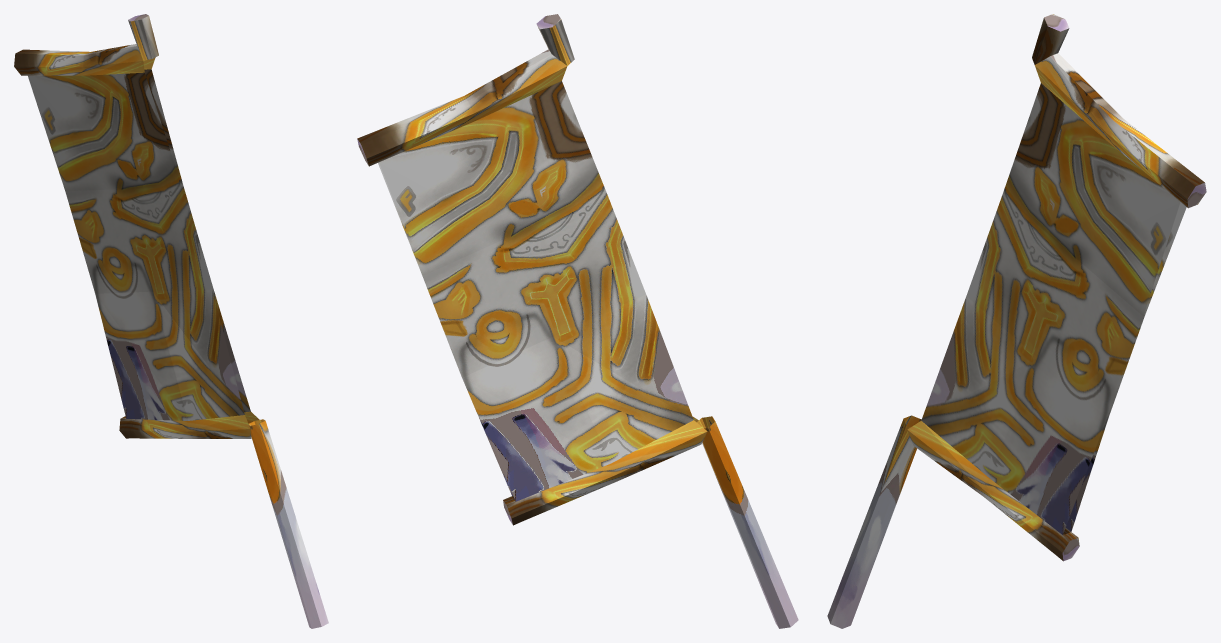
Rendered from Bison_championFlag.obj.
3 renders of one model, left to right at view 1: azimuth 90°, elevation 25°; view 2: azimuth 150°, elevation 25°; view 3: azimuth 270°, elevation 25°, orthographic. The views are drawn at different scales.
Visible parts, largest first — view 1: Bison_championFlag_tri; view 2: Bison_championFlag_tri; view 3: Bison_championFlag_tri.
Part boxes in pixels (x1,y1,x2,y2): Bison_championFlag_tri: (14,14,328,628); Bison_championFlag_tri: (357,14,798,628); Bison_championFlag_tri: (827,14,1206,628).
Bounding box in the file's own units: 0.8069 × 1.87 × 0.9542.
1 material, 1 textured.
